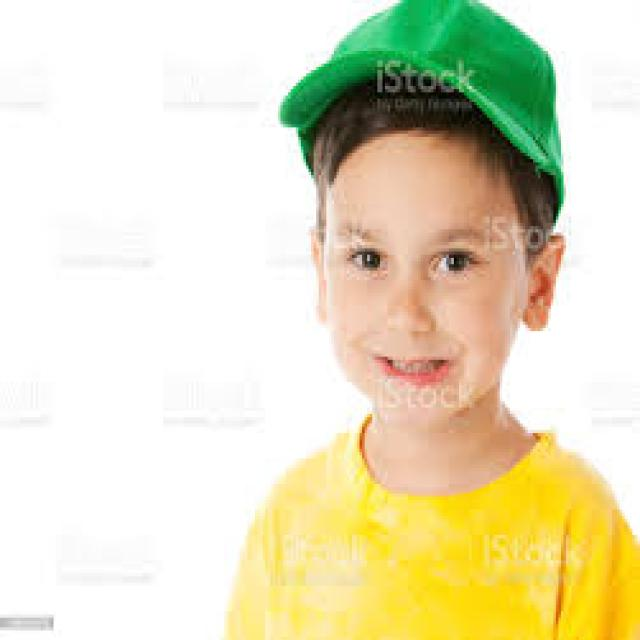3_gorra: (276, 2, 568, 225)
